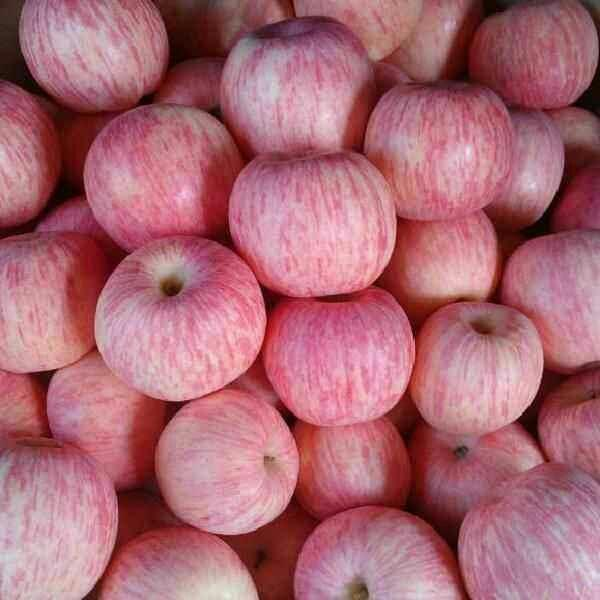apple: (92, 233, 271, 397), (229, 150, 395, 296), (148, 386, 301, 539), (216, 17, 376, 161), (262, 283, 419, 423), (83, 101, 236, 241), (367, 82, 516, 223), (449, 461, 598, 600), (411, 299, 549, 439), (2, 432, 120, 594), (17, 1, 170, 119), (42, 358, 167, 489), (1, 228, 112, 372), (499, 227, 600, 378), (297, 512, 463, 600), (282, 409, 420, 514), (465, 2, 595, 111), (89, 525, 262, 599), (389, 212, 501, 303), (1, 78, 63, 229), (536, 148, 600, 231), (145, 57, 226, 112)
